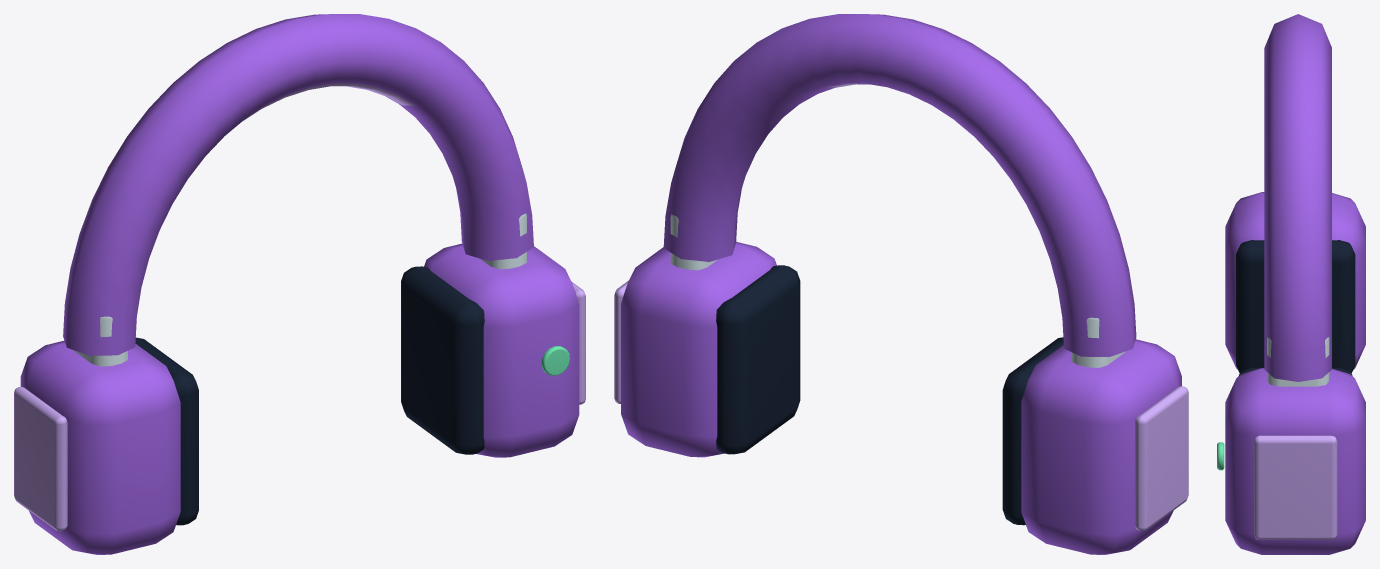
The model's file is headphones.glb.
3 views of the same model, side by side, from view 1: azimuth 30°, elevation 25°; view 2: azimuth 150°, elevation 25°; view 3: azimuth 270°, elevation 25° (orthographic). The views are drawn at different scales.
Visible parts, largest first — view 1: headphones; view 2: headphones; view 3: headphones.
Boxes of the visible parts, x1=… form: headphones: x1=14, y1=14, x2=585, y2=554; headphones: x1=614, y1=14, x2=1188, y2=554; headphones: x1=1217, y1=14, x2=1365, y2=554.
Size of the model in its own units: 1 by 0.8404 by 0.2685.
Materials: 1 (1 with a texture image).
